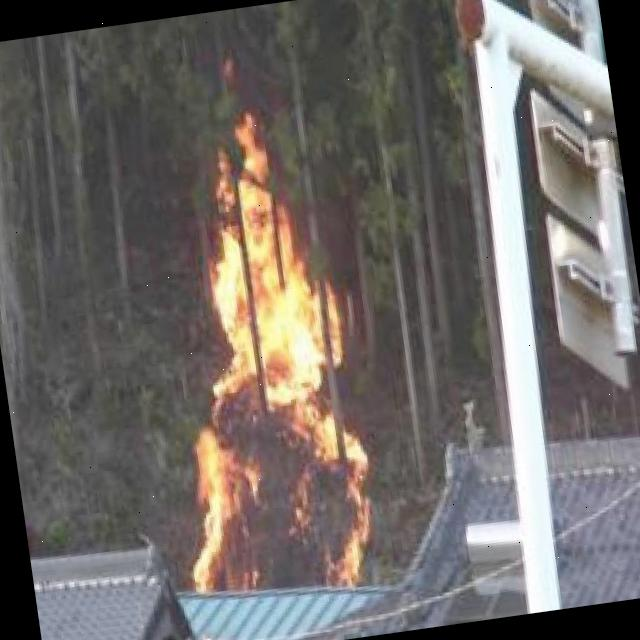fire: (134, 116, 377, 601)
